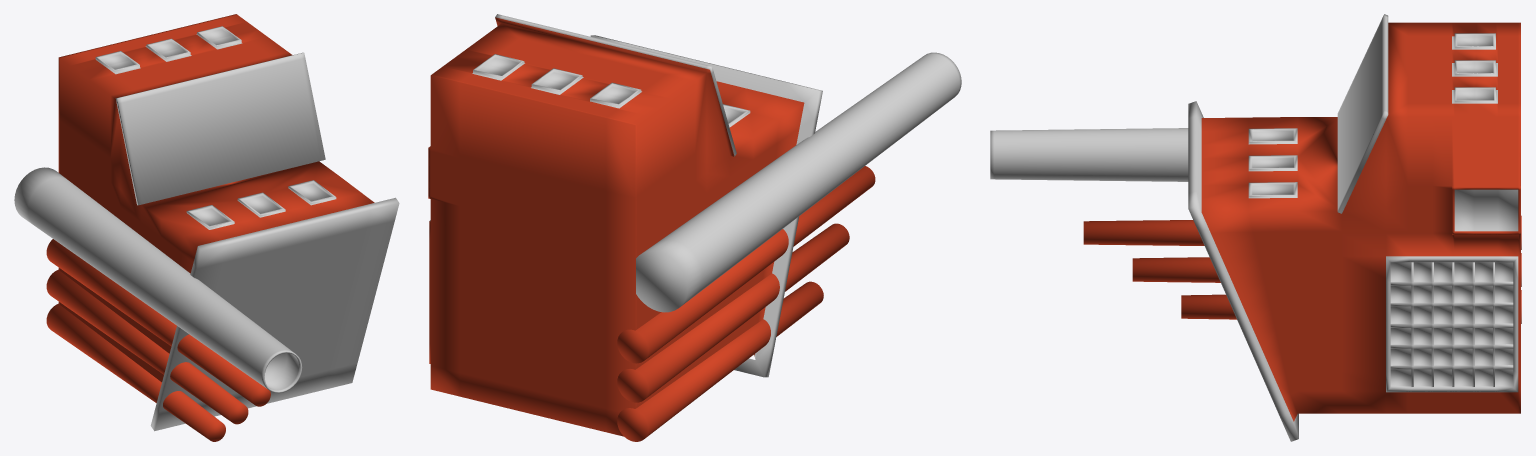
Rendered from Factory.gltf.
3 renders of one model, left to right at view 1: azimuth 30°, elevation 25°; view 2: azimuth 150°, elevation 25°; view 3: azimuth 270°, elevation 25°, orthographic. The views are drawn at different scales.
Size of the model in its own units: 31.84 by 39.23 by 57.9.
